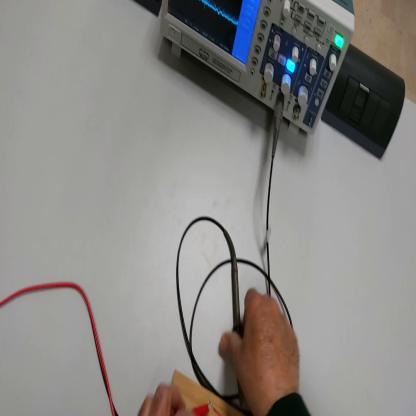hand: (221, 288, 301, 405), (141, 384, 198, 416)
oscilloscope: (163, 1, 356, 142)
oscilloscope probe tip: (223, 226, 244, 403)
socket: (134, 1, 163, 22)
working area: (163, 367, 249, 413)
